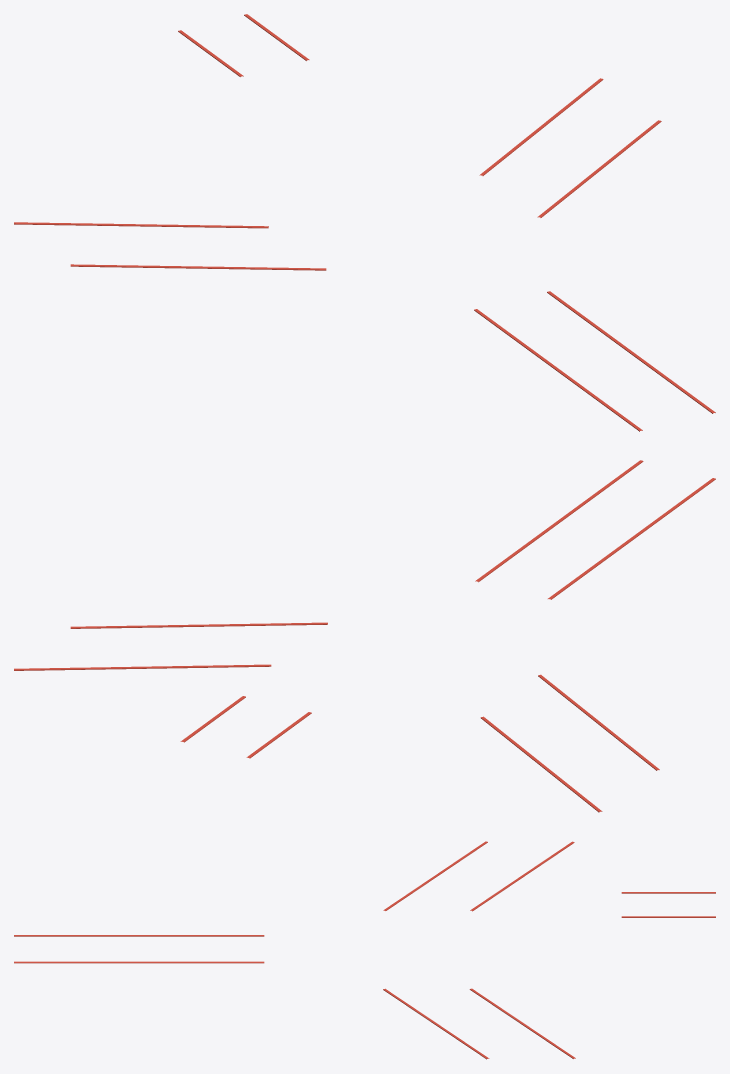
The model's file is BarandaAlta.fbx.
3 views of the same model, one above another, from view 1: azimuth 30°, elevation 25°; view 2: azimuth 150°, elevation 25°; view 3: azimuth 270°, elevation 25° (orthographic). The views are drawn at different scales.
Visible parts, largest first — view 1: Baranda_Alta_Lobby; view 2: Baranda_Alta_Lobby; view 3: Baranda_Alta_Lobby.
Part boxes in pixels (box(x1,y1,x2,y2)): Baranda_Alta_Lobby: box(14, 14, 715, 431); Baranda_Alta_Lobby: box(14, 460, 715, 812); Baranda_Alta_Lobby: box(14, 841, 715, 1059).
Bounding box in the file's own units: 69.05 × 6.76 × 94.06.
